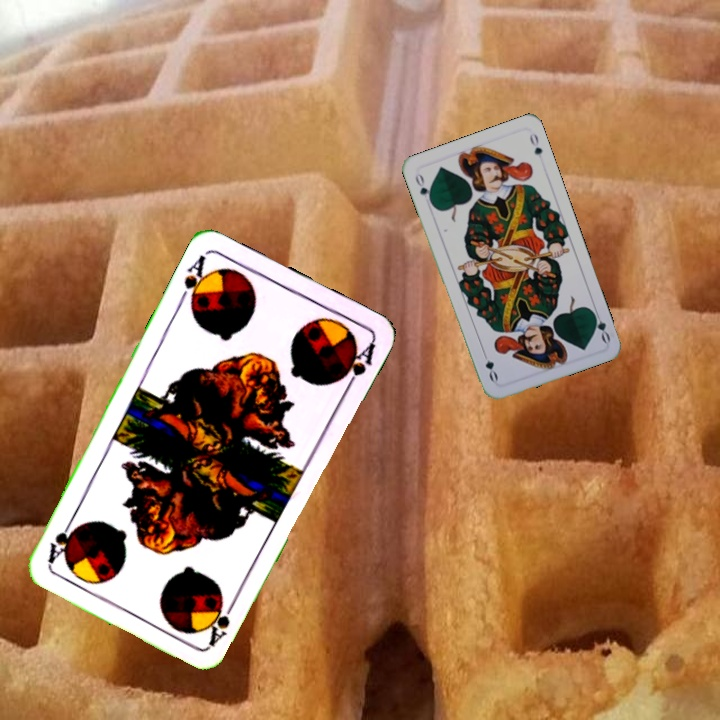GO: (588, 305, 613, 345), (411, 169, 435, 207)
SA: (175, 250, 214, 310), (204, 593, 240, 649)
